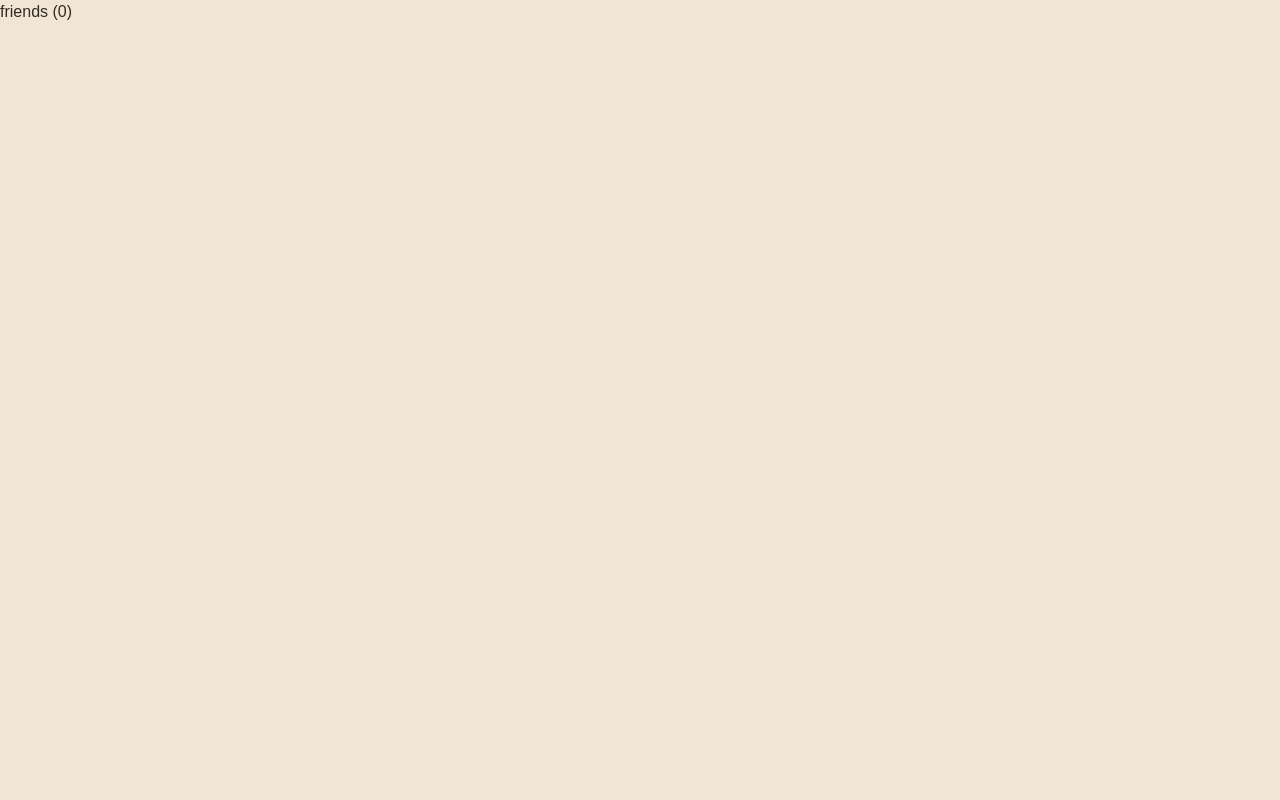
Test: FriendsPanel › opens as a dialog on mobile
Click the button "friends (0)": (36, 12) [0, 0, 72, 24]
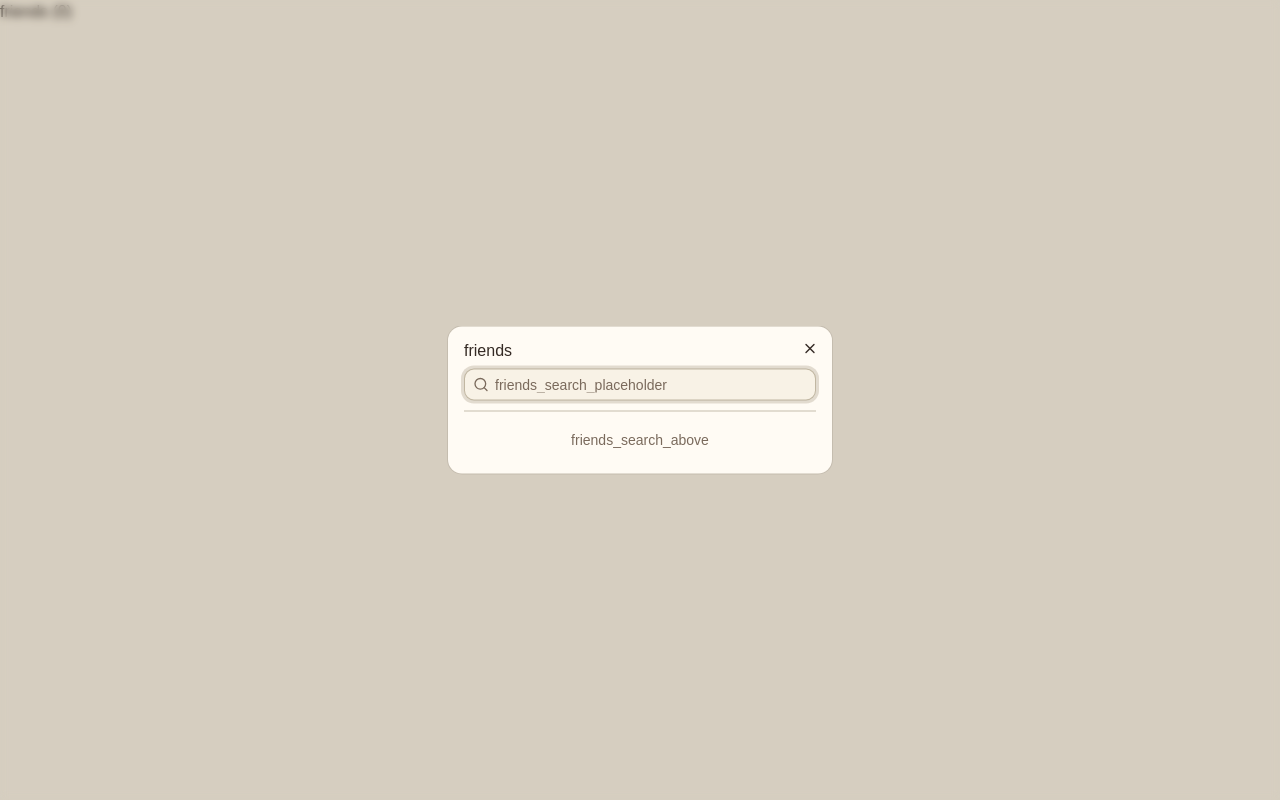
Check: the dialog is shown, box [448, 326, 832, 474]
Check: the heading "friends" is shown, box [464, 342, 512, 358]
